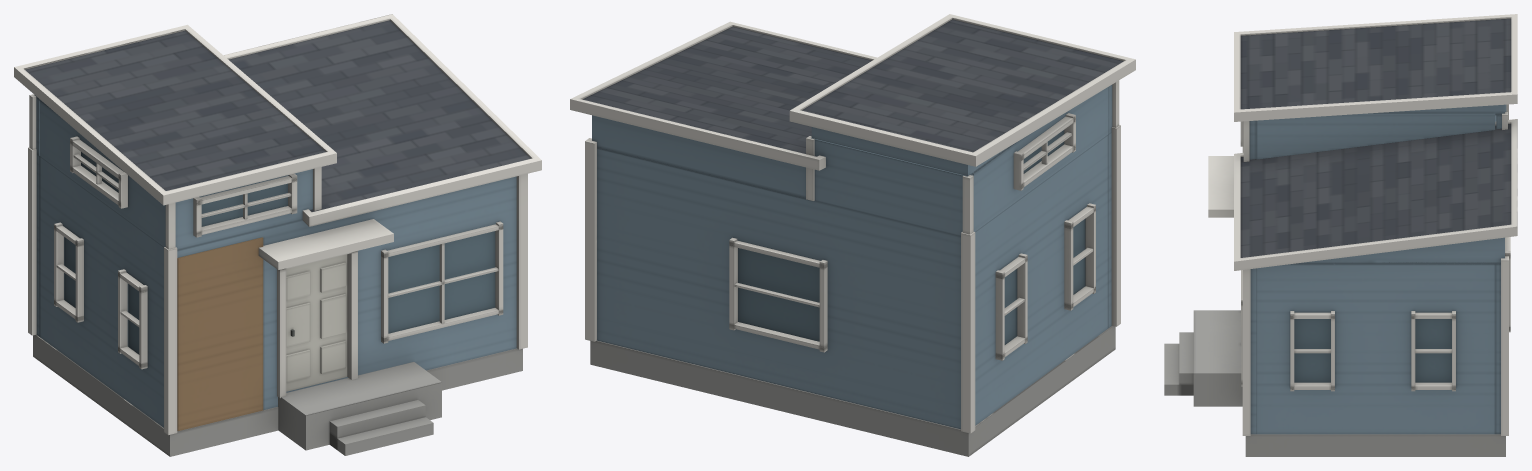
The model's file is House_02_Split_Shed.fbx.
3 views of the same model, side by side, from view 1: azimuth 30°, elevation 25°; view 2: azimuth 150°, elevation 25°; view 3: azimuth 270°, elevation 25° (orthographic). The views are drawn at different scales.
Parts seen in each view (by area): view 1: House_02_Split_Shed; view 2: House_02_Split_Shed; view 3: House_02_Split_Shed.
Boxes of the visible parts, x1=… form: House_02_Split_Shed: x1=14, y1=14, x2=541, y2=456; House_02_Split_Shed: x1=570, y1=14, x2=1135, y2=456; House_02_Split_Shed: x1=1164, y1=14, x2=1517, y2=456.
Size of the model in its own units: 6.75 by 4.91 by 5.75.
Materials: 1 (1 with a texture image).
